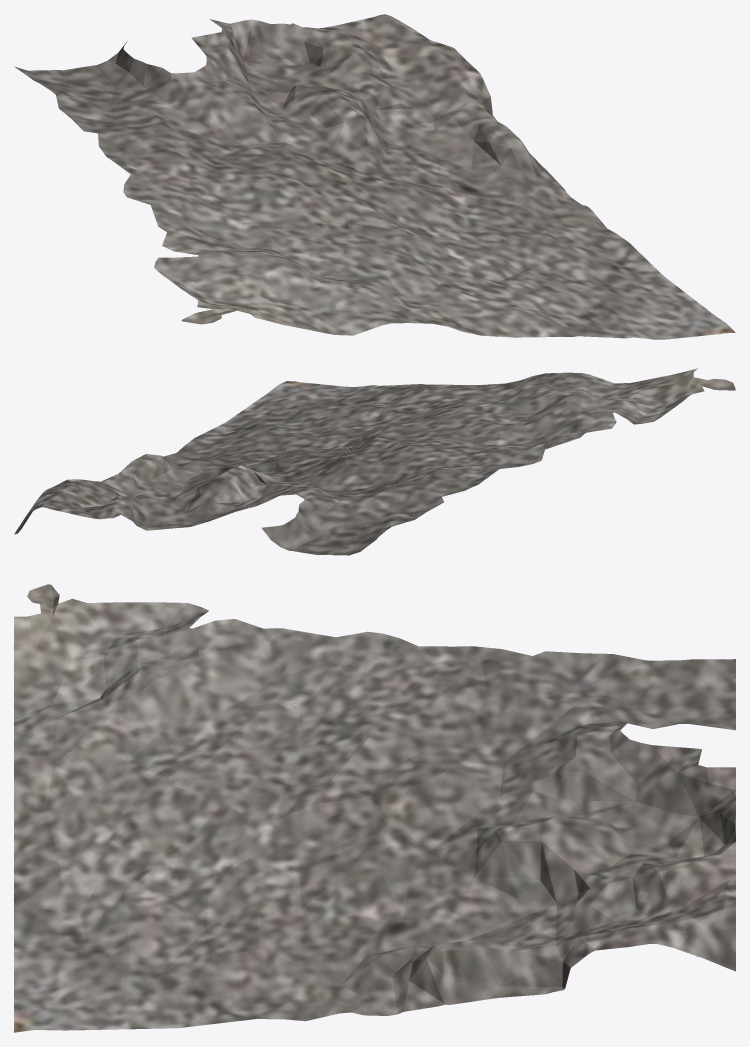
3 renders of one model, top to bottom at view 1: azimuth 30°, elevation 25°; view 2: azimuth 150°, elevation 25°; view 3: azimuth 270°, elevation 25°, orthographic. The views are drawn at different scales.
Size of the model in its own units: 0.8194 by 0.1918 by 0.8374.
2 materials, 2 textured.
